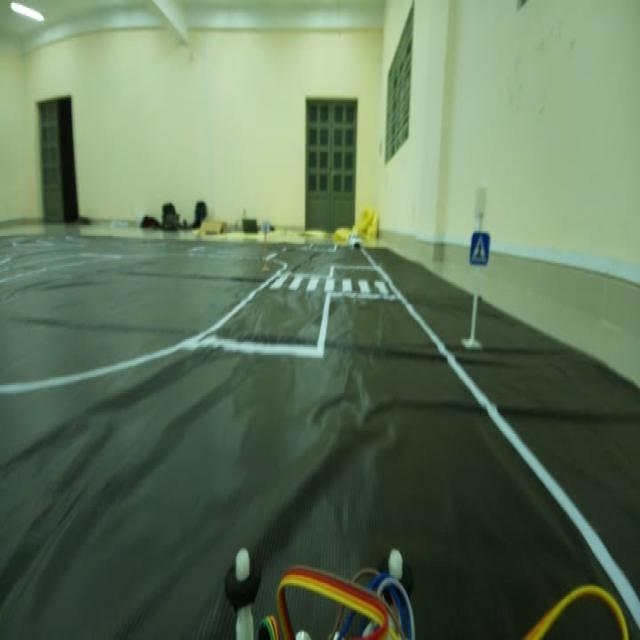crosswalk: (467, 220, 493, 268)
